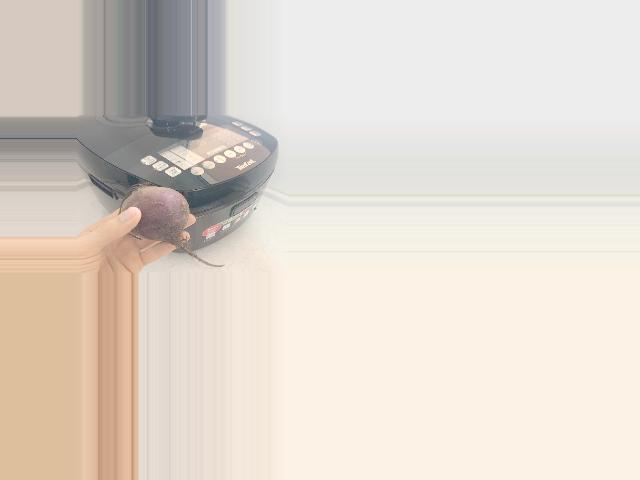beet: (119, 183, 224, 267)
